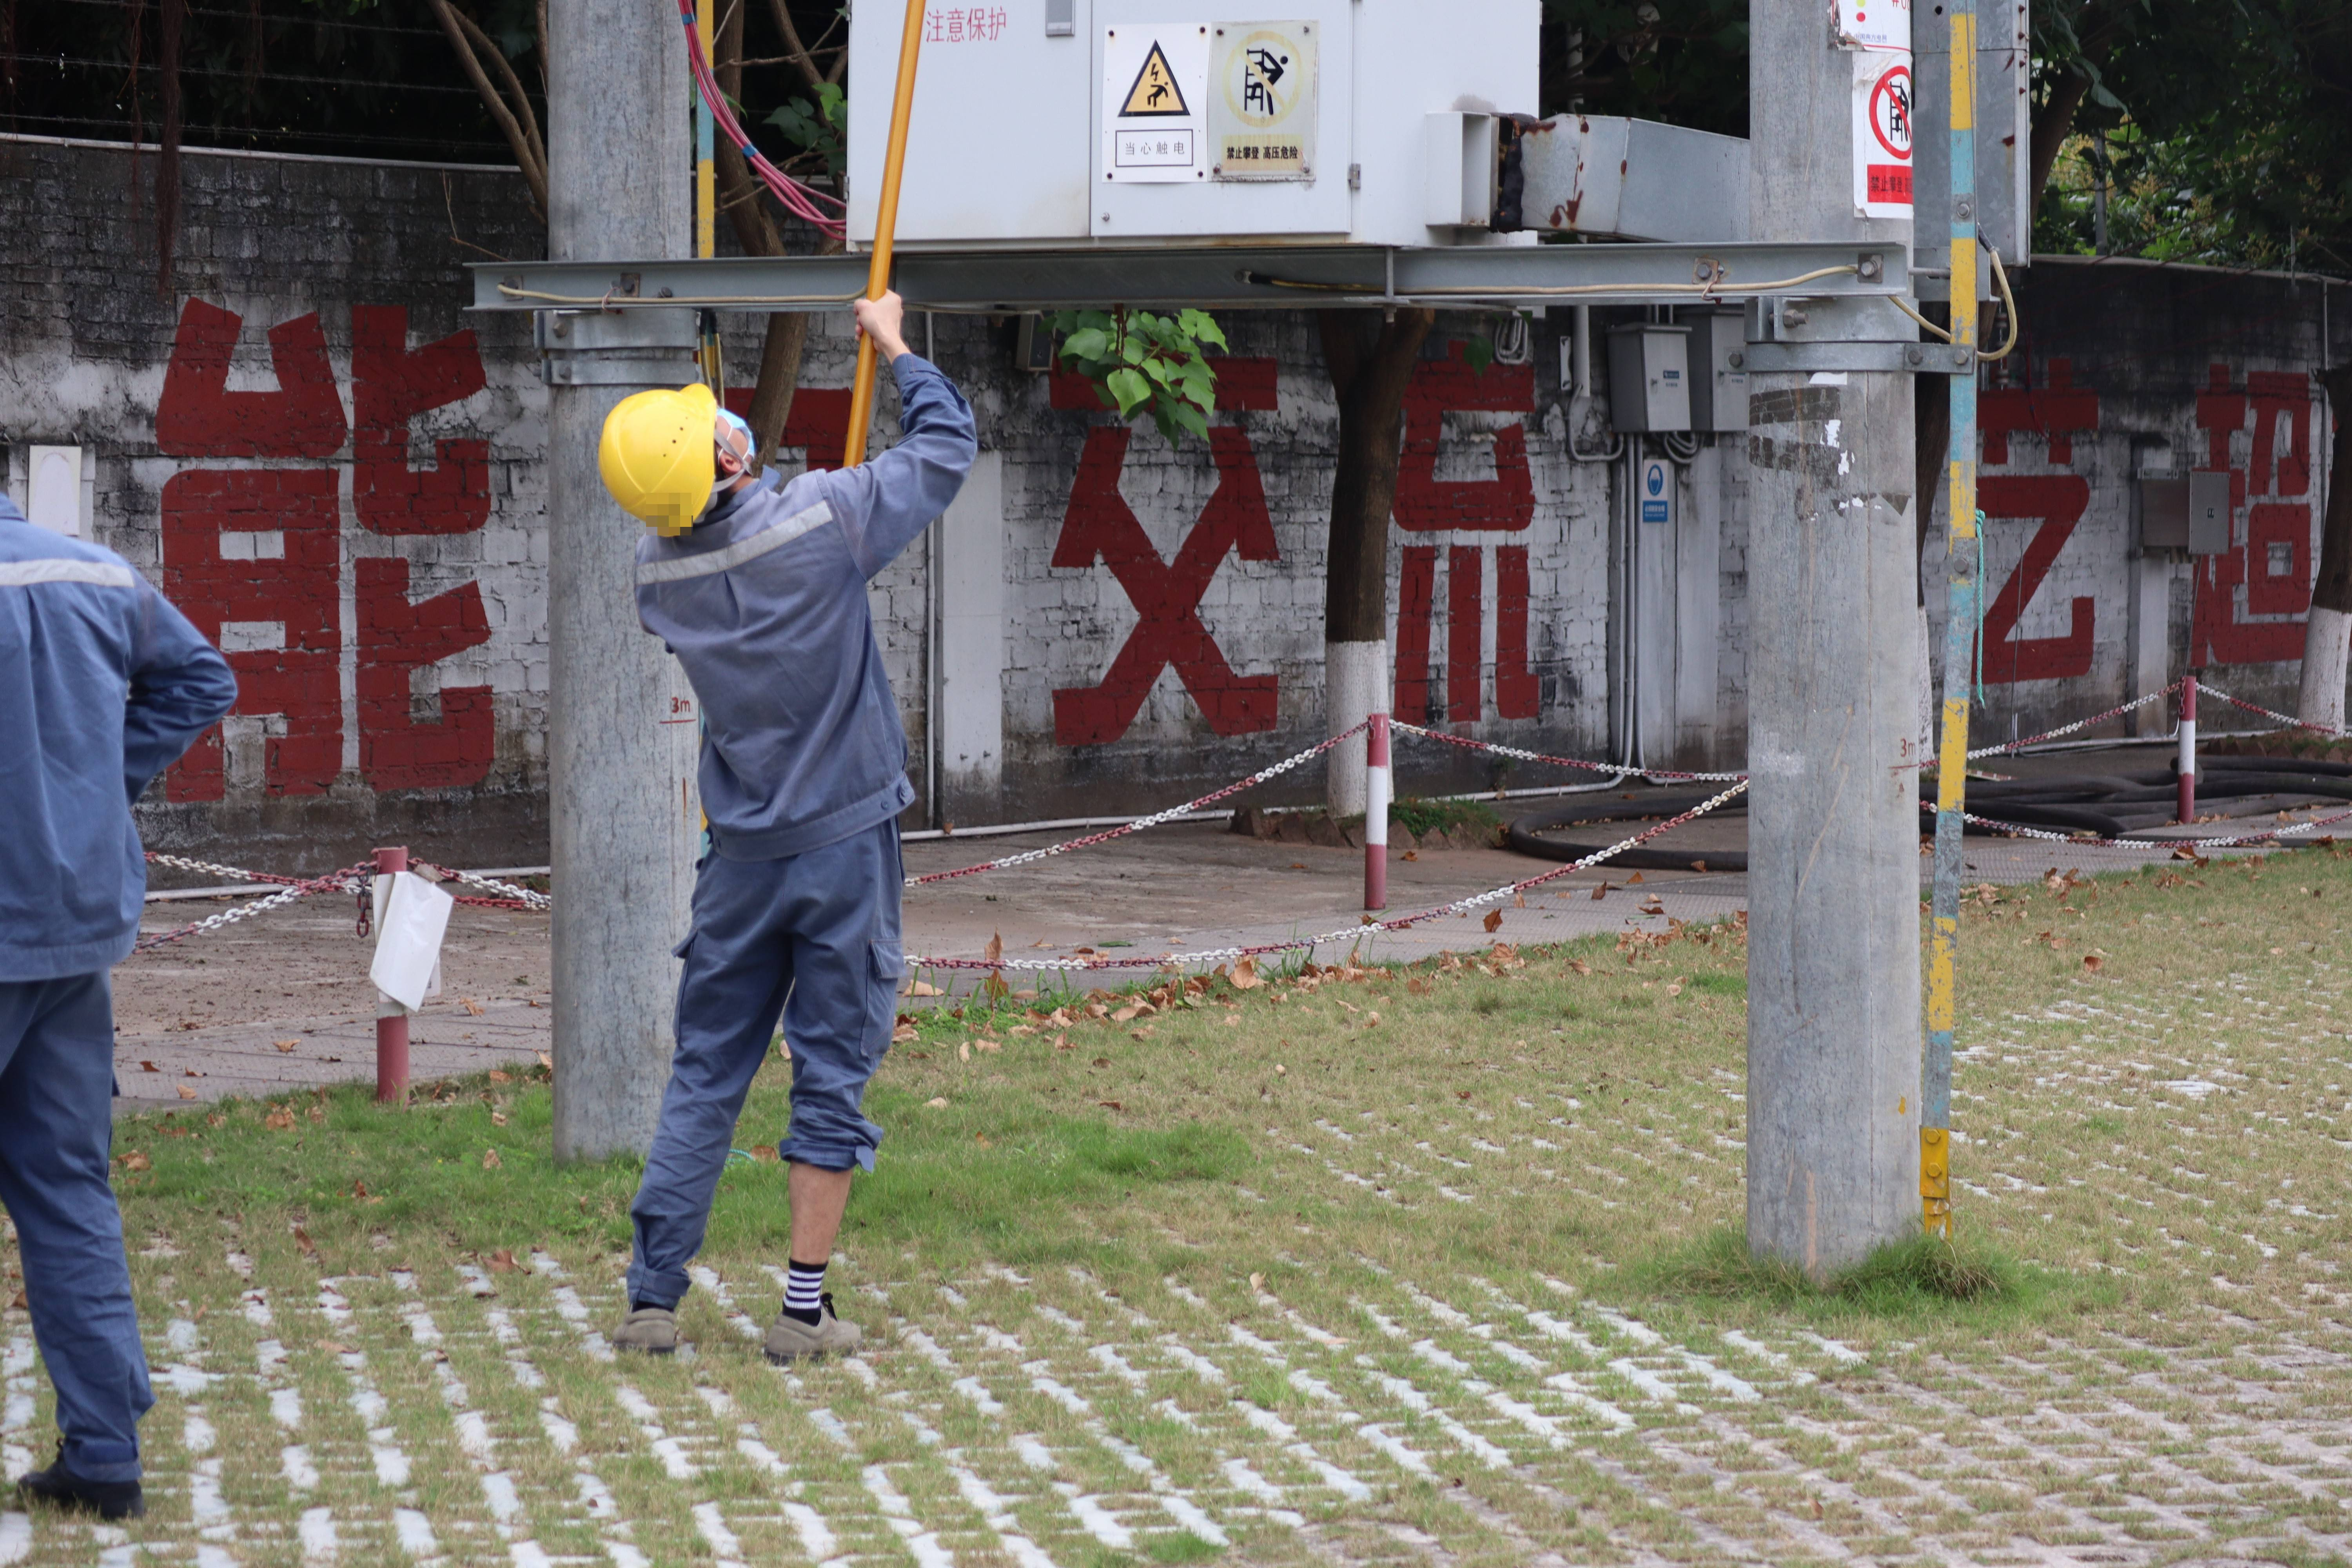downsuit: (632, 840, 889, 1323), (2, 984, 173, 1459)
upsuit: (2, 513, 235, 959), (619, 499, 917, 826)
wrongbottom: (770, 1125, 870, 1312)
